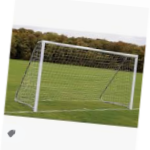goals: (14, 38, 137, 114)
